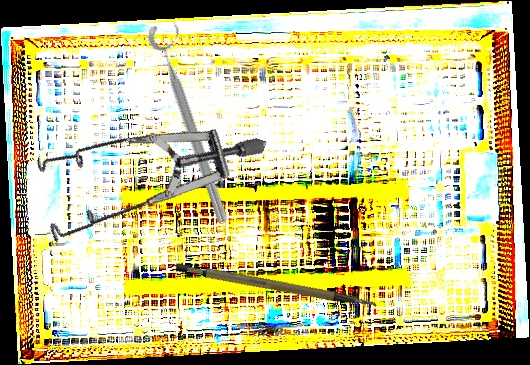Fixation Ring: (144, 18, 245, 226)
Scalpel Handle: (173, 235, 379, 340)
Speculum: (14, 73, 267, 296)
